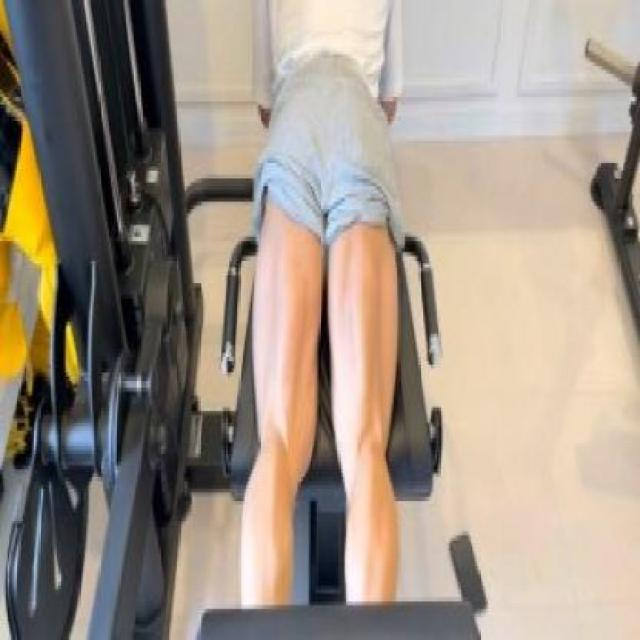reg curl machine: (3, 0, 486, 640)
